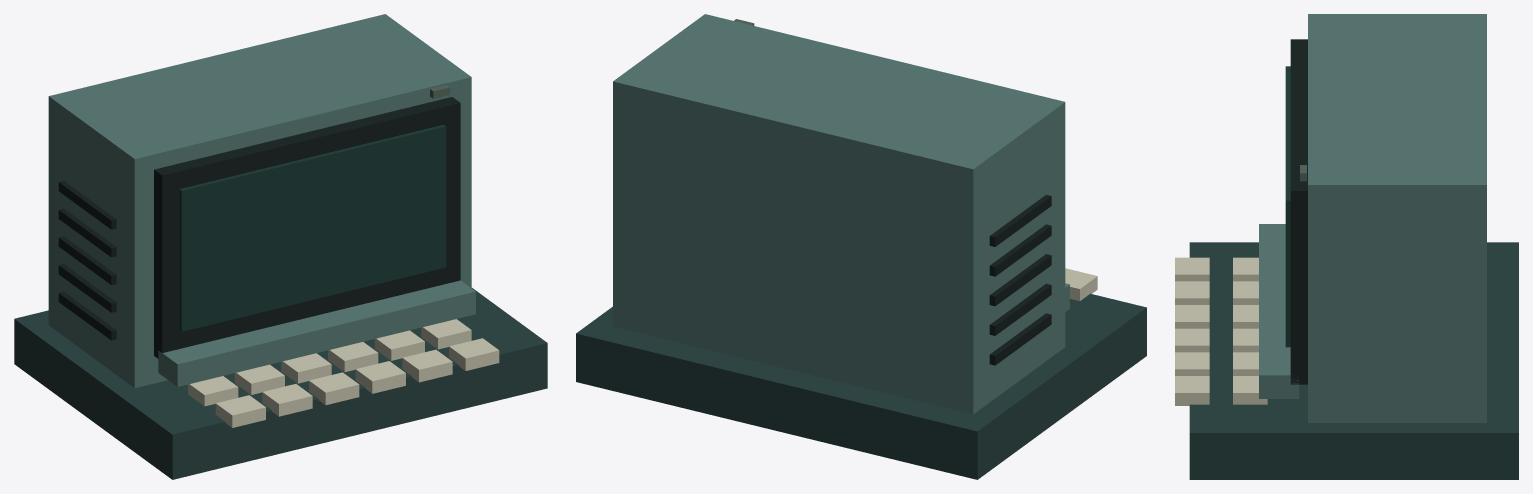
The model's file is terminal.glb.
3 views of the same model, side by side, from view 1: azimuth 30°, elevation 25°; view 2: azimuth 150°, elevation 25°; view 3: azimuth 270°, elevation 25° (orthographic). The views are drawn at different scales.
Parts seen in each view (by area): view 1: terminal_body, terminal_screen, terminal_base, terminal_bezel, terminal_screen_lip, terminal_key_1_2, terminal_key_1_1, terminal_key_1_3, terminal_key_1_4, terminal_key_1_0, terminal_key_1_5, terminal_key_0_0 (+10 smaller); view 2: terminal_body, terminal_base, terminal_vent_2, terminal_vent_0, terminal_vent_4, terminal_vent_3, terminal_vent_1, terminal_key_1_0; view 3: terminal_body, terminal_base, terminal_bezel, terminal_screen_lip, terminal_screen, terminal_key_1_5, terminal_key_1_0, terminal_key_1_3, terminal_key_1_1, terminal_key_1_2, terminal_key_1_4, terminal_key_0_5 (+5 smaller).
Part boxes in pixels (left/top/right/bottom): terminal_body: left=48, top=14, right=471, bottom=387; terminal_screen: left=179, top=124, right=446, bottom=331; terminal_base: left=14, top=288, right=547, bottom=479; terminal_bezel: left=154, top=97, right=460, bottom=358; terminal_screen_lip: left=158, top=280, right=475, bottom=386; terminal_key_1_2: left=309, top=372, right=359, bottom=405; terminal_key_1_1: left=262, top=384, right=312, bottom=416; terminal_key_1_3: left=355, top=361, right=405, bottom=393; terminal_key_1_4: left=402, top=349, right=452, bottom=382; terminal_key_1_0: left=215, top=395, right=265, bottom=427; terminal_key_1_5: left=449, top=338, right=499, bottom=370; terminal_key_0_0: left=188, top=376, right=238, bottom=406; terminal_body: left=613, top=14, right=1065, bottom=414; terminal_base: left=576, top=293, right=1146, bottom=479; terminal_vent_2: left=989, top=254, right=1051, bottom=306; terminal_vent_0: left=989, top=313, right=1051, bottom=365; terminal_vent_4: left=989, top=194, right=1051, bottom=246; terminal_vent_3: left=989, top=224, right=1051, bottom=276; terminal_vent_1: left=989, top=283, right=1051, bottom=335; terminal_key_1_0: left=1065, top=268, right=1097, bottom=301; terminal_body: left=1308, top=14, right=1486, bottom=422; terminal_base: left=1189, top=242, right=1518, bottom=479; terminal_bezel: left=1290, top=39, right=1307, bottom=384; terminal_screen_lip: left=1259, top=224, right=1299, bottom=398; terminal_screen: left=1285, top=66, right=1290, bottom=347; terminal_key_1_5: left=1175, top=376, right=1209, bottom=405; terminal_key_1_0: left=1175, top=257, right=1209, bottom=281; terminal_key_1_3: left=1175, top=328, right=1209, bottom=352; terminal_key_1_1: left=1175, top=281, right=1209, bottom=304; terminal_key_1_2: left=1175, top=305, right=1209, bottom=328; terminal_key_1_4: left=1175, top=352, right=1209, bottom=375; terminal_key_0_5: left=1233, top=376, right=1267, bottom=404.
Size of the model in its own units: 0.78 by 0.545 by 0.595.
